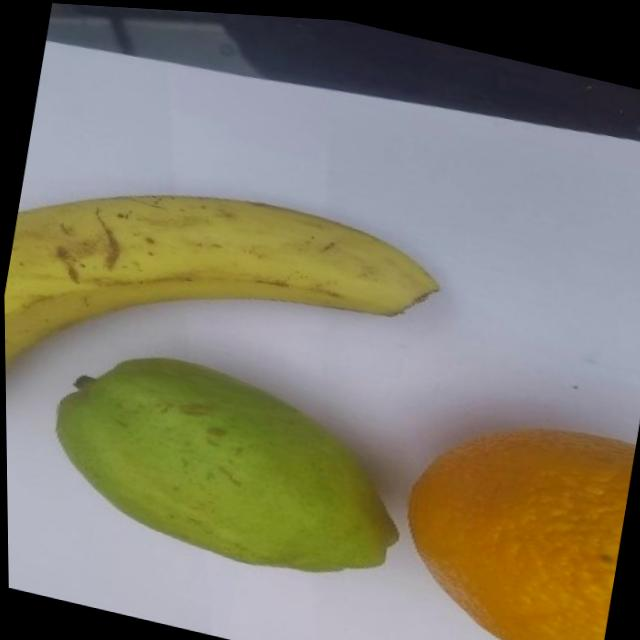Banana: (2, 141, 449, 477)
Orange: (383, 382, 637, 640)
